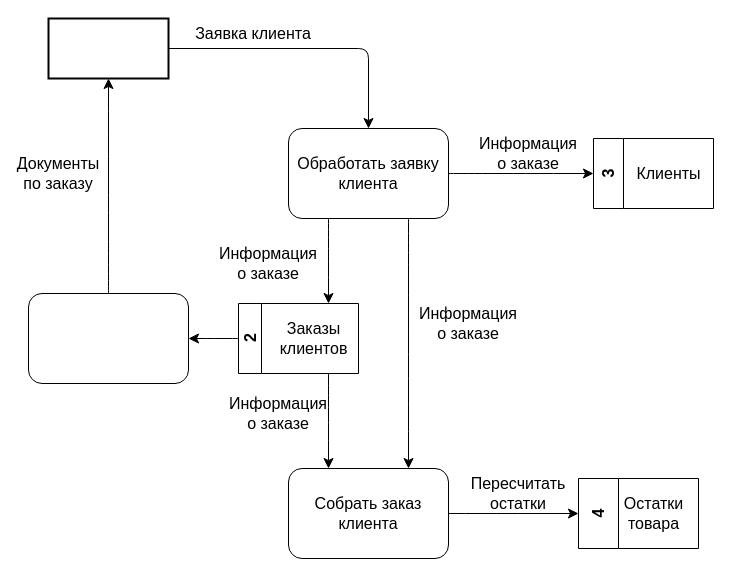
Image size: 731x576. Some labels were removed from this diagram. Here are the shapes that lost their labels. From the top down, the box of each, then its label:
(47, 17, 169, 79): Покупатель
(28, 292, 188, 384): Оформить отгрузку
